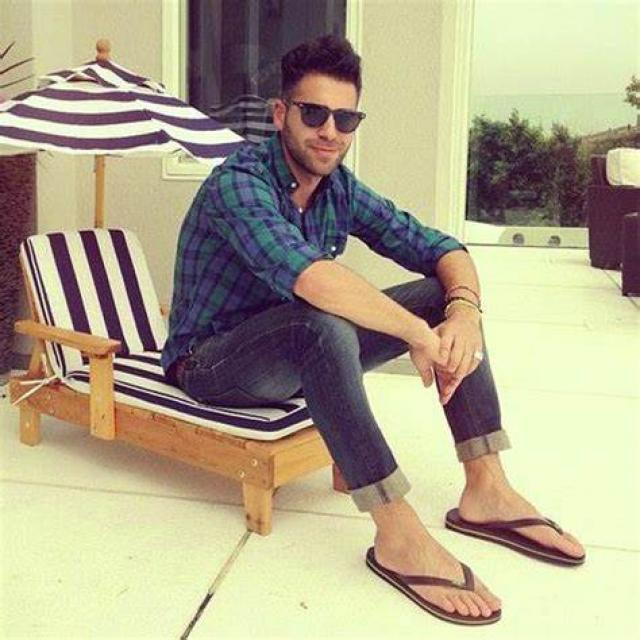No_BreathingApparatus: (283, 88, 356, 176)
No_Helmet: (268, 27, 367, 93)
No_Shoe: (447, 471, 594, 577), (365, 520, 506, 626)
Person: (158, 6, 490, 619)
